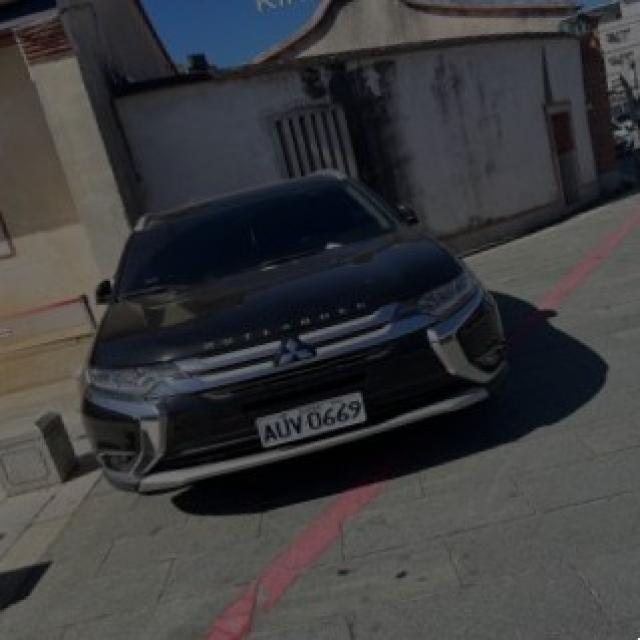illegalparking: (61, 157, 591, 516)
